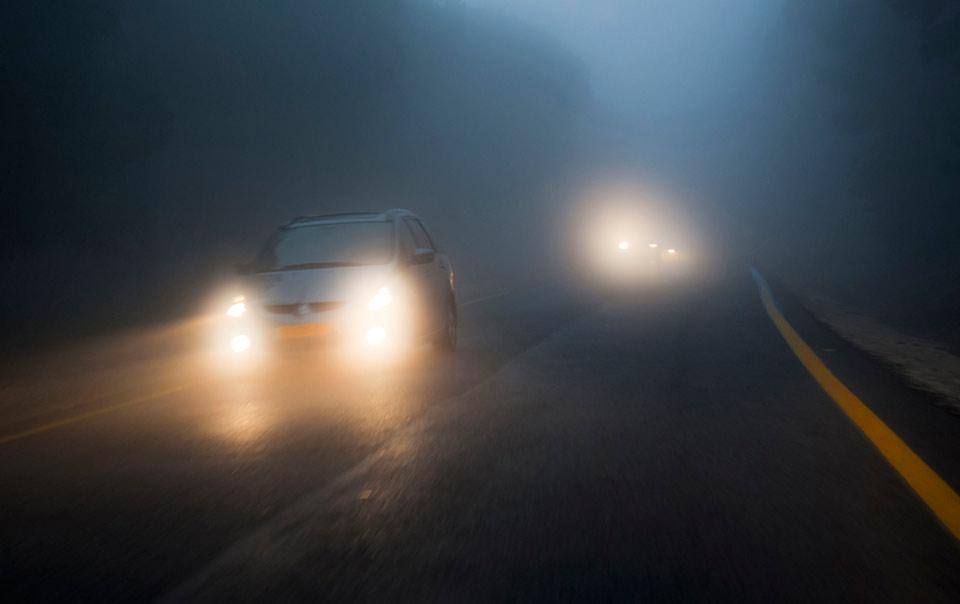car: (216, 206, 463, 383)
